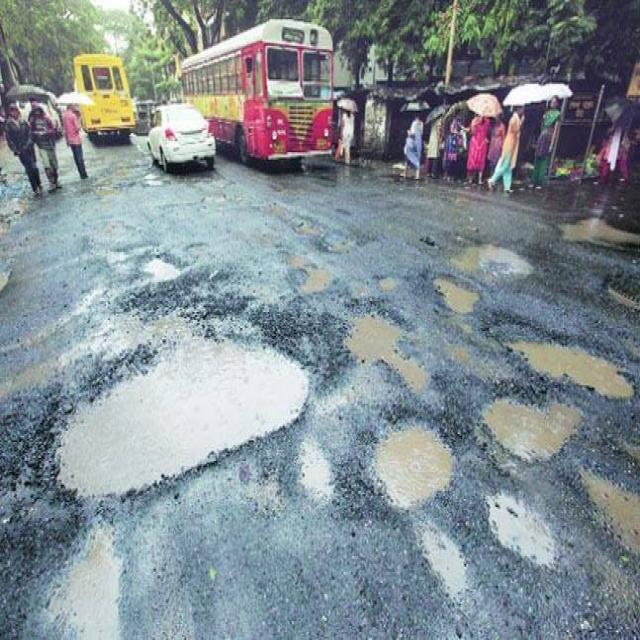Pothole: (26, 310, 334, 480), (21, 496, 156, 640), (352, 403, 494, 508), (505, 325, 640, 412), (410, 499, 498, 610), (479, 474, 567, 584), (448, 211, 550, 301), (571, 467, 640, 598), (474, 379, 586, 447), (346, 303, 426, 398), (128, 240, 206, 304), (547, 201, 640, 254), (180, 169, 252, 222), (432, 264, 499, 320), (292, 269, 342, 307), (597, 278, 640, 318), (142, 167, 178, 202)
